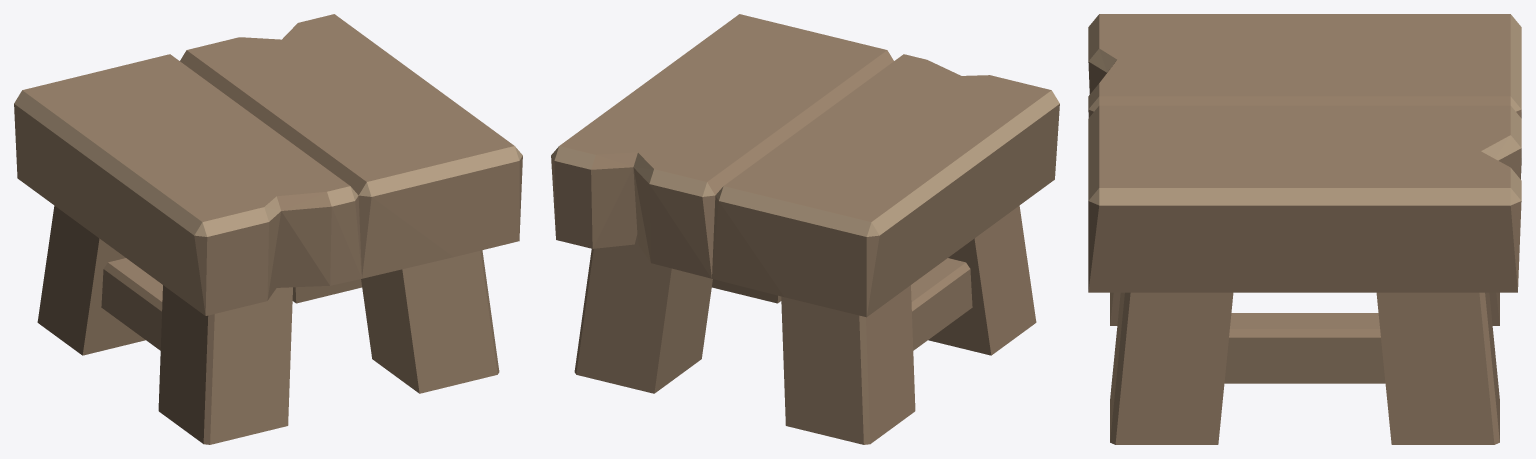
3 views of the same model, side by side, from view 1: azimuth 30°, elevation 25°; view 2: azimuth 150°, elevation 25°; view 3: azimuth 270°, elevation 25° (orthographic). The views are drawn at different scales.
Parts seen in each view (by area): view 1: model; view 2: model; view 3: model.
Boxes of the visible parts, bbox=[...] form: model: bbox=[14, 14, 522, 444]; model: bbox=[551, 14, 1059, 444]; model: bbox=[1088, 14, 1521, 444].
Bounding box in the file's own units: 0.525 × 0.35 × 0.525.
